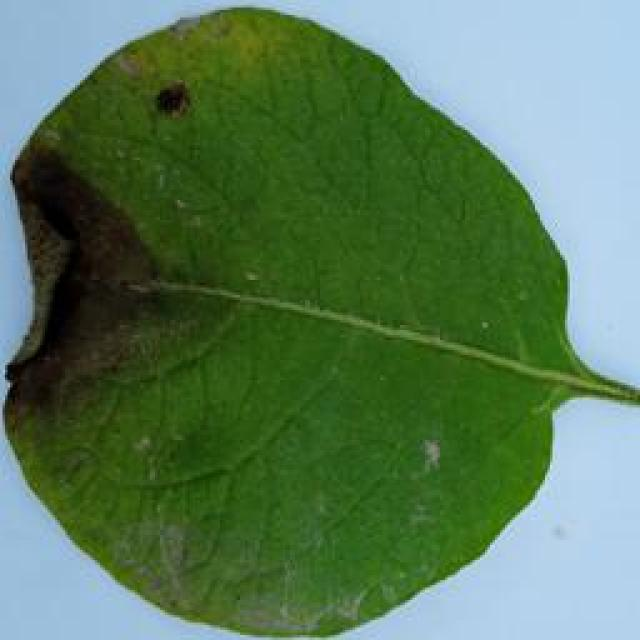Potato_Late_Blight: (5, 8, 631, 636)
